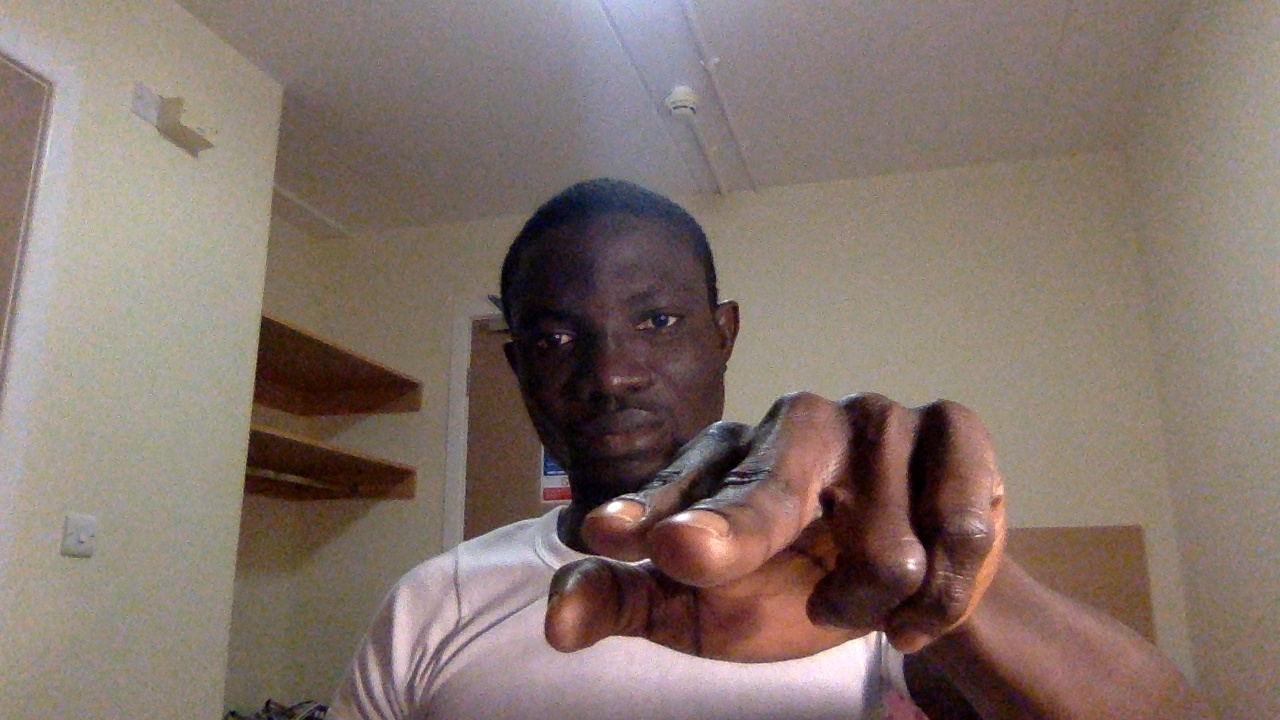No: (536, 381, 1027, 676)
